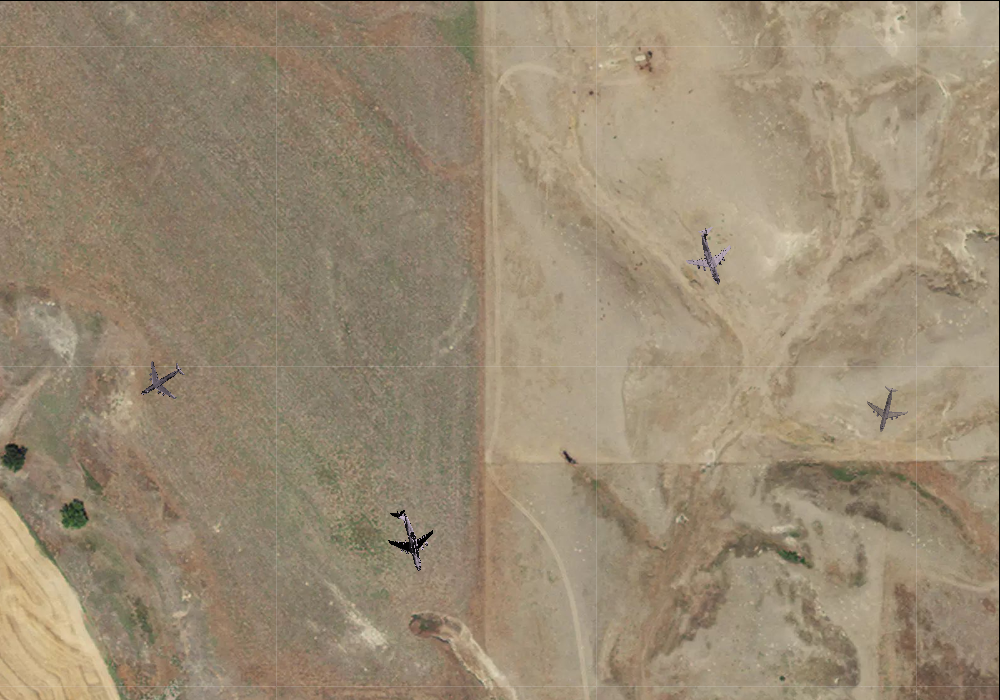plane: (374, 503, 443, 578), (676, 219, 746, 292), (129, 349, 193, 412), (860, 381, 913, 437)
